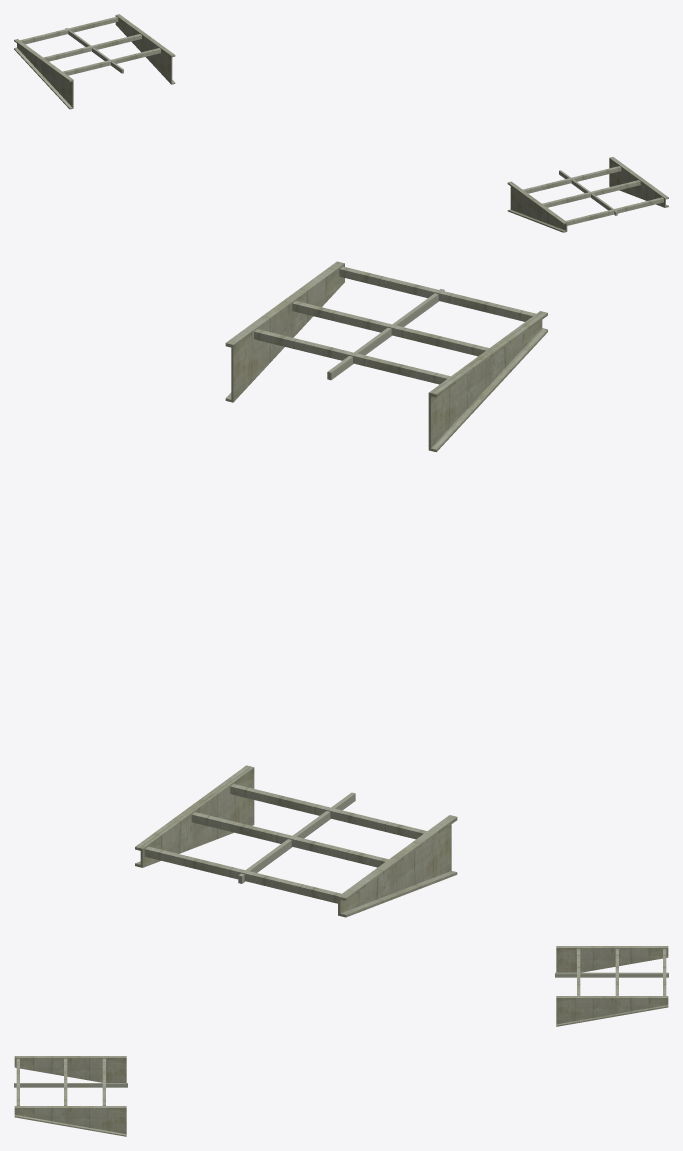
Rendered from SM_LDFest_26_Metal.fbx.
The picture shows the model from 3 angles, top to bottom: view 1: azimuth 30°, elevation 25°; view 2: azimuth 150°, elevation 25°; view 3: azimuth 270°, elevation 25°; orthographic projection. The views are drawn at different scales.
Visible parts, largest first — view 1: SM_LDFest_26_Metal; view 2: SM_LDFest_26_Metal; view 3: SM_LDFest_26_Metal.
Part boxes in pixels (bbox=[...]): SM_LDFest_26_Metal: bbox=[14, 14, 668, 232]; SM_LDFest_26_Metal: bbox=[135, 261, 547, 917]; SM_LDFest_26_Metal: bbox=[14, 946, 668, 1136].
Bounding box in the file's own units: 1779 × 149 × 3045.
